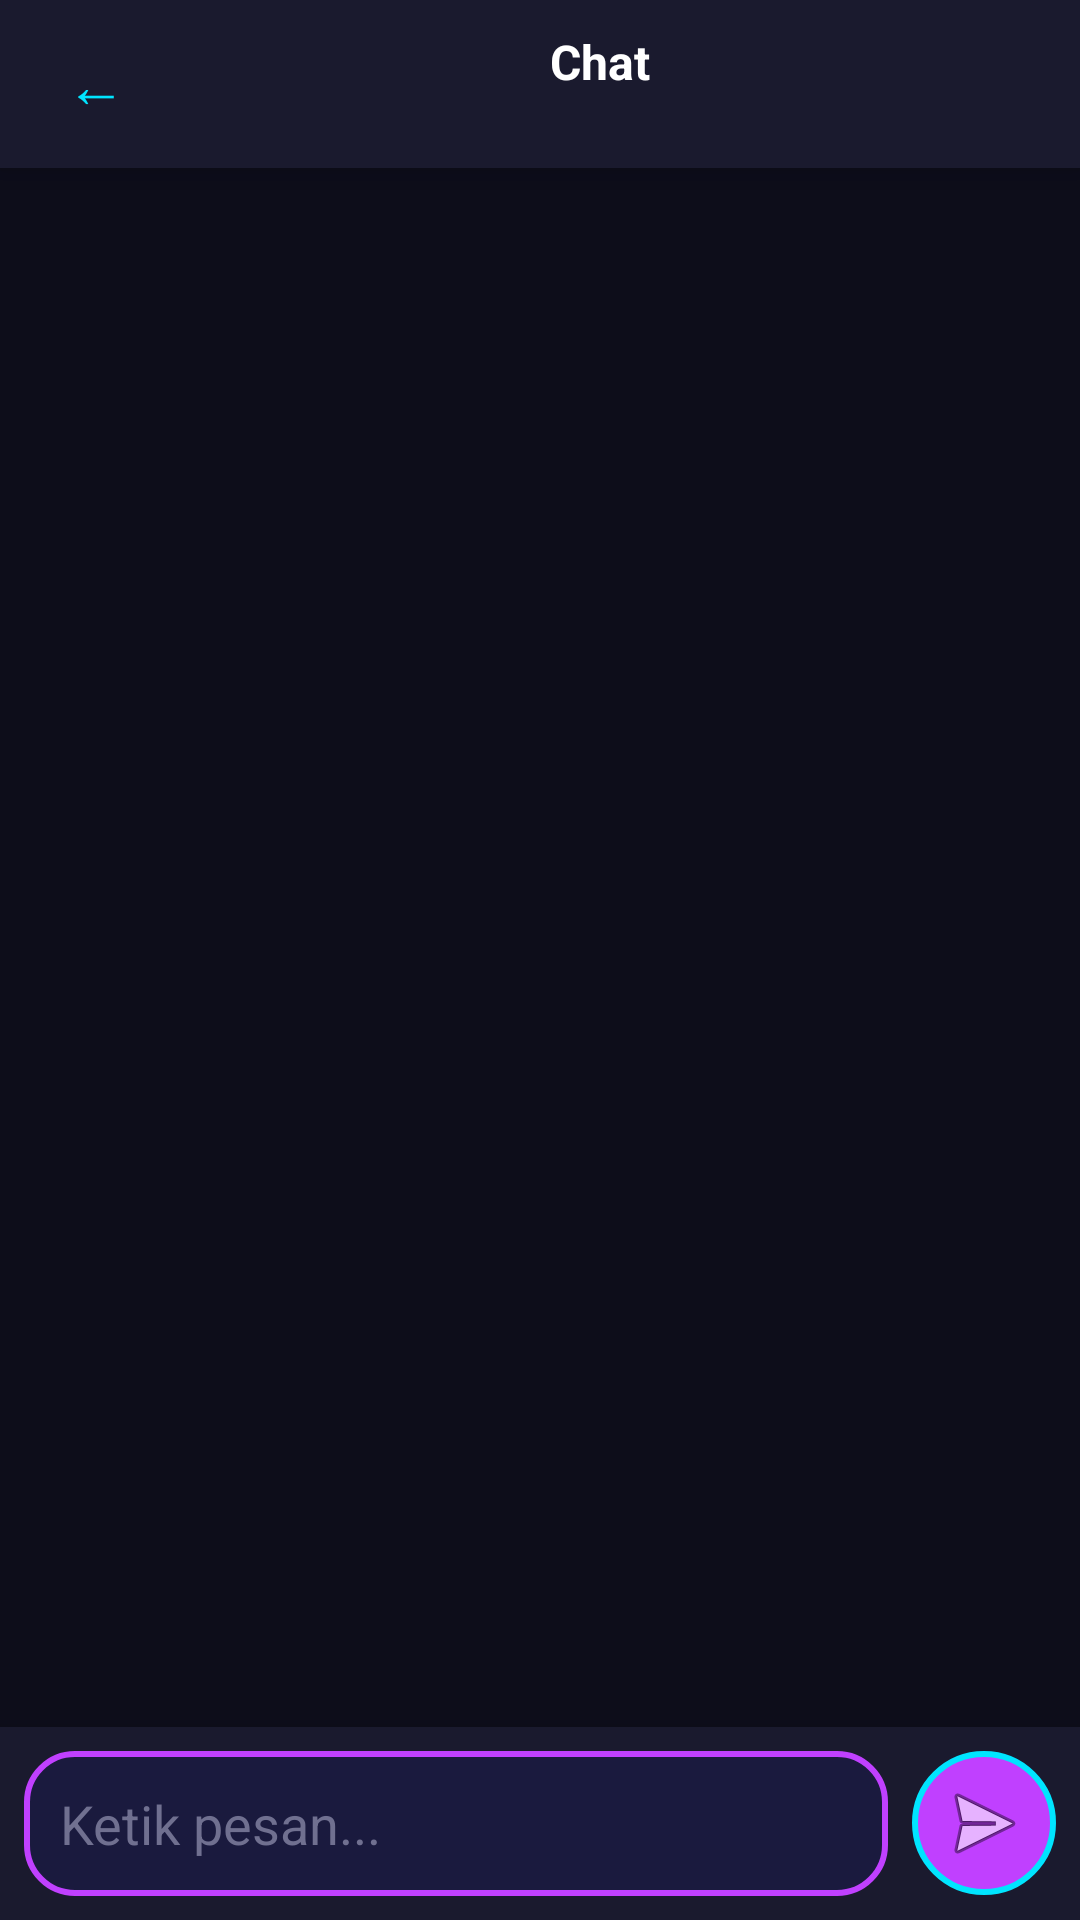

Point at icon controls on the screen. Image size 1080 × 1920, points as (x,y).
Kirim: (984,1823)
